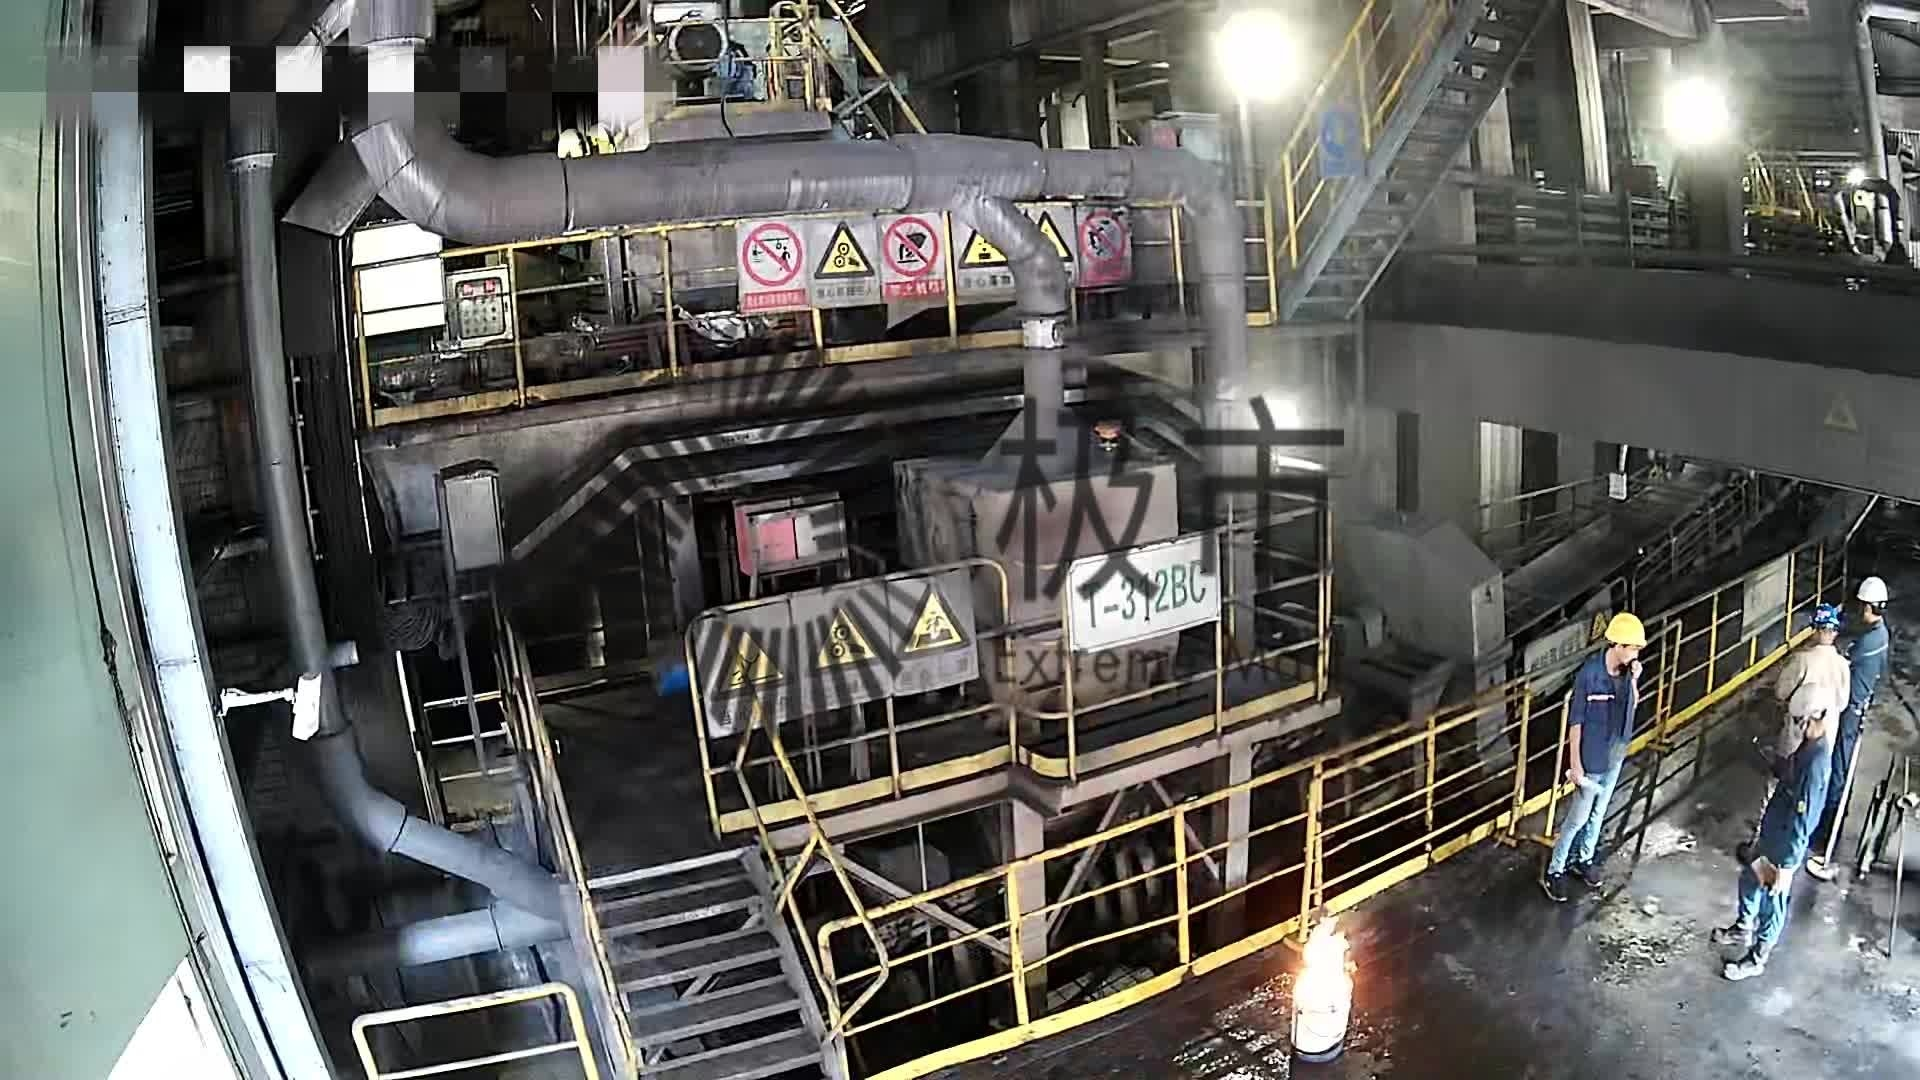fire: (1290, 914, 1360, 1027)
